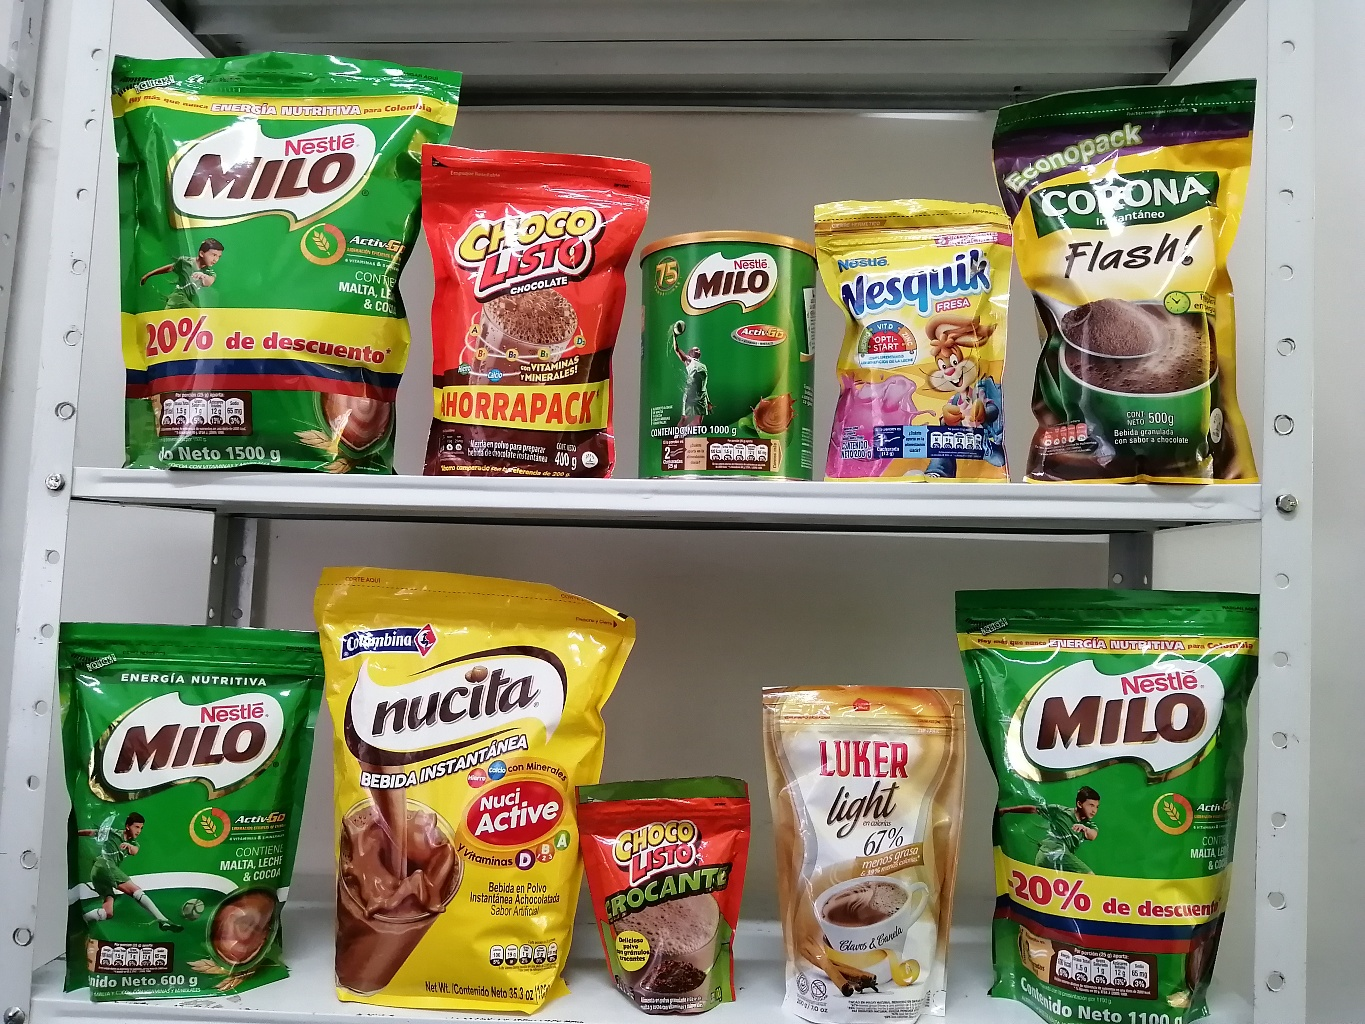COL0170102DYP10000: (580, 777, 756, 1019)
COL0170103DYP40000: (433, 146, 649, 466)
COL0170305DYP20000: (814, 195, 1016, 483)
